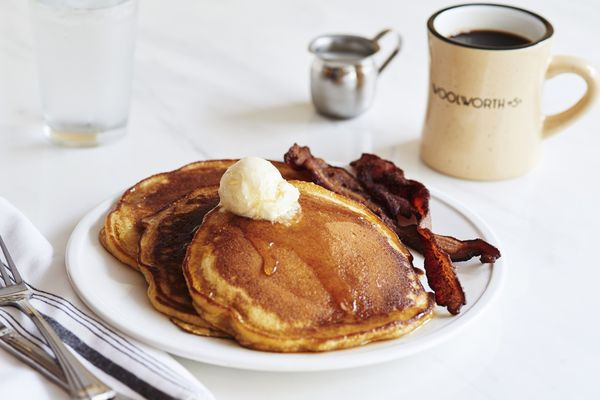burger: (0, 233, 212, 396)
pizza: (419, 2, 599, 181), (29, 1, 138, 147), (306, 27, 403, 120)
